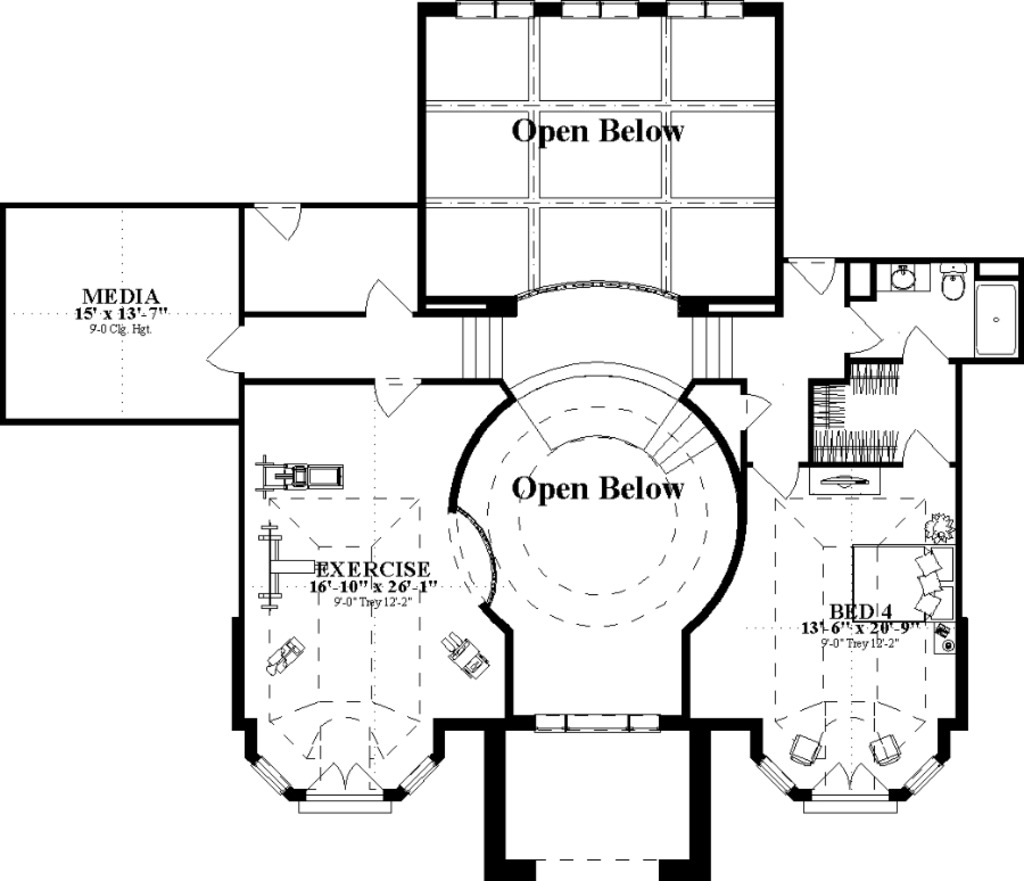bed: (852, 540, 956, 620)
door: (251, 194, 305, 245), (362, 376, 421, 421), (896, 319, 948, 368), (360, 275, 415, 321), (898, 430, 954, 469), (205, 321, 242, 378), (840, 305, 884, 352), (786, 257, 837, 295)
large_sink: (929, 260, 968, 308)
small_sink: (871, 258, 930, 296)
stairs: (462, 303, 738, 473)
tub: (969, 279, 1024, 361)
windows: (450, 2, 769, 19), (522, 708, 666, 736)
